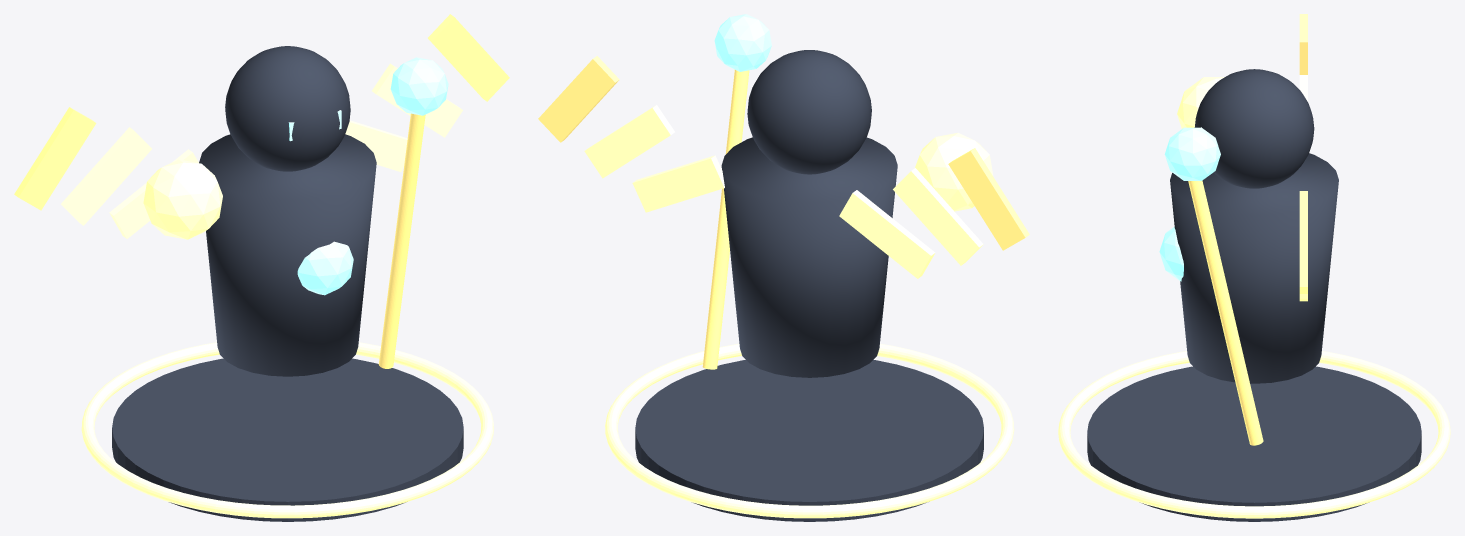
Rendered from athena.glb.
3 views of the same model, side by side, from view 1: azimuth 30°, elevation 25°; view 2: azimuth 150°, elevation 25°; view 3: azimuth 270°, elevation 25° (orthographic). The views are drawn at different scales.
Visible parts, largest first — view 1: AbilityPedestal, AgentTorso, AgentHead, AbilityAuraRing, Pet_ATHENA, SignatureWeapon, Wing_-1_2, Wing_-1_1, Wing_1_2, WeaponApex, AgentCore, Wing_1_0 (+2 smaller); view 2: AbilityPedestal, AgentTorso, AgentHead, AbilityAuraRing, SignatureWeapon, Wing_-1_0, Wing_-1_1, Wing_-1_2, Wing_1_0, Wing_1_2, Wing_1_1, Pet_ATHENA (+1 smaller); view 3: AbilityPedestal, AgentTorso, AgentHead, AbilityAuraRing, SignatureWeapon, WeaponApex, Pet_ATHENA, Wing_1_2, AgentCore, Wing_-1_2.
Part boxes in pixels (x1=…): AbilityPedestal: x1=112, y1=358, x2=463, y2=521; AgentTorso: x1=199, y1=134, x2=376, y2=376; AgentHead: x1=225, y1=46, x2=350, y2=171; AbilityAuraRing: x1=81, y1=342, x2=493, y2=518; Pet_ATHENA: x1=143, y1=159, x2=222, y2=239; SignatureWeapon: x1=378, y1=113, x2=425, y2=368; Wing_-1_2: x1=14, y1=107, x2=96, y2=210; Wing_-1_1: x1=61, y1=127, x2=151, y2=225; Wing_1_2: x1=428, y1=14, x2=509, y2=101; WeaponApex: x1=390, y1=57, x2=448, y2=115; AgentCore: x1=297, y1=241, x2=353, y2=295; Wing_1_0: x1=345, y1=120, x2=407, y2=171; AbilityPedestal: x1=635, y1=360, x2=983, y2=521; AgentTorso: x1=721, y1=137, x2=897, y2=377; AgentHead: x1=747, y1=50, x2=871, y2=174; AbilityAuraRing: x1=605, y1=343, x2=1014, y2=518; SignatureWeapon: x1=702, y1=70, x2=749, y2=369; Wing_-1_0: x1=839, y1=190, x2=935, y2=278; Wing_-1_1: x1=893, y1=168, x2=983, y2=265; Wing_-1_2: x1=948, y1=148, x2=1029, y2=250; Wing_1_0: x1=632, y1=155, x2=724, y2=212; Wing_1_2: x1=538, y1=56, x2=619, y2=142; Wing_1_1: x1=584, y1=105, x2=674, y2=178; Pet_ATHENA: x1=915, y1=132, x2=993, y2=211; AbilityPedestal: x1=1087, y1=366, x2=1421, y2=521; AgentTorso: x1=1170, y1=153, x2=1338, y2=383; AgentHead: x1=1194, y1=69, x2=1314, y2=188; AbilityAuraRing: x1=1058, y1=351, x2=1450, y2=518; SignatureWeapon: x1=1188, y1=180, x2=1263, y2=445; WeaponApex: x1=1164, y1=127, x2=1220, y2=180; Pet_ATHENA: x1=1177, y1=77, x2=1224, y2=128; Wing_1_2: x1=1299, y1=191, x2=1307, y2=293; AgentCore: x1=1159, y1=227, x2=1183, y2=281; Wing_-1_2: x1=1299, y1=14, x2=1307, y2=74.
Bounding box in the file's own units: 3.07 × 2.36 × 2.23.
